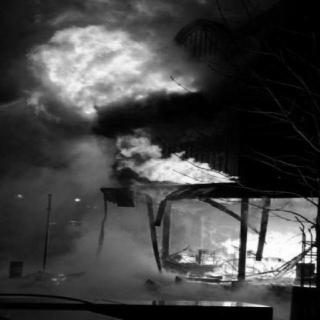Fire: (19, 24, 201, 117), (174, 226, 316, 290), (106, 126, 242, 186)
other: (96, 295, 274, 311)
